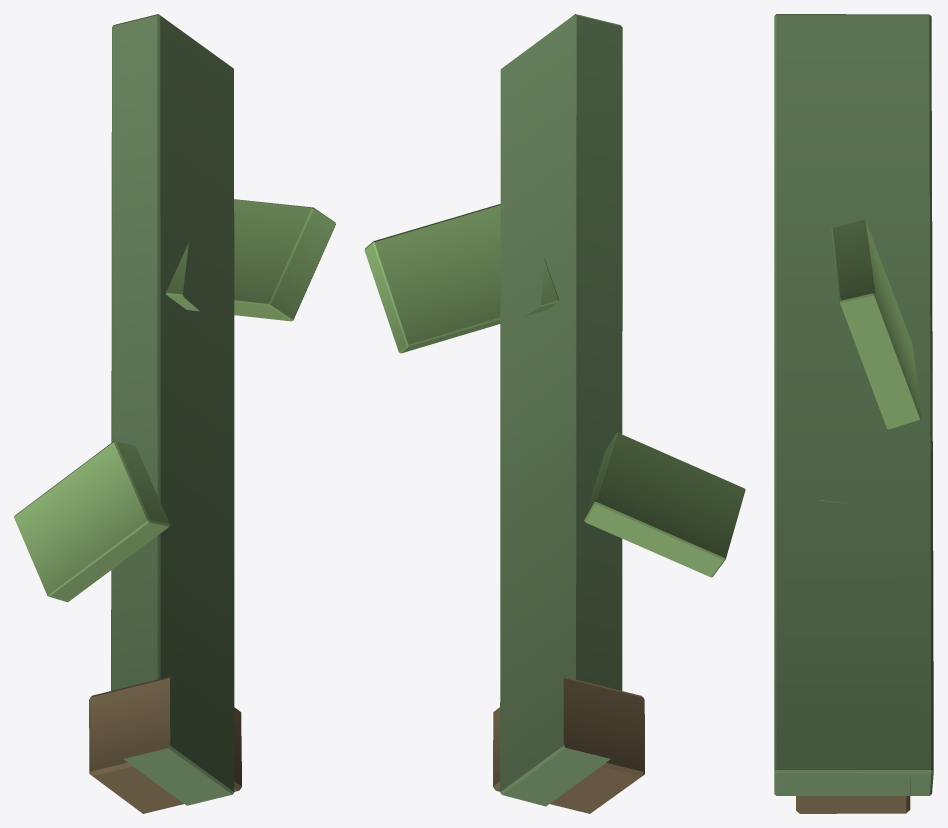
Rendered from cut_vines.glb.
3 views of the same model, side by side, from view 1: azimuth 30°, elevation 25°; view 2: azimuth 150°, elevation 25°; view 3: azimuth 270°, elevation 25° (orthographic). The views are drawn at different scales.
Parts seen in each view (by area): view 1: Stem, LeafB, LeafA, Root; view 2: Stem, LeafA, LeafB, Root; view 3: Stem, LeafA, Root.
Part boxes in pixels (bbox=[...]): Stem: bbox=[111, 14, 234, 805]; LeafB: bbox=[14, 441, 170, 602]; LeafA: bbox=[166, 199, 335, 321]; Root: bbox=[89, 676, 241, 813]; Stem: bbox=[500, 14, 622, 806]; LeafA: bbox=[364, 204, 559, 353]; LeafB: bbox=[584, 432, 745, 577]; Root: bbox=[493, 676, 644, 813]; Stem: bbox=[774, 14, 933, 795]; LeafA: bbox=[831, 220, 921, 429]; Root: bbox=[796, 729, 910, 813].
Bounding box in the file's own units: 0.8847 × 1.82 × 0.3432.
